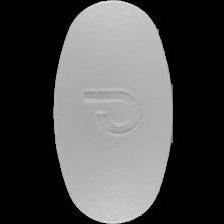49884-577: (0, 0, 224, 224)
